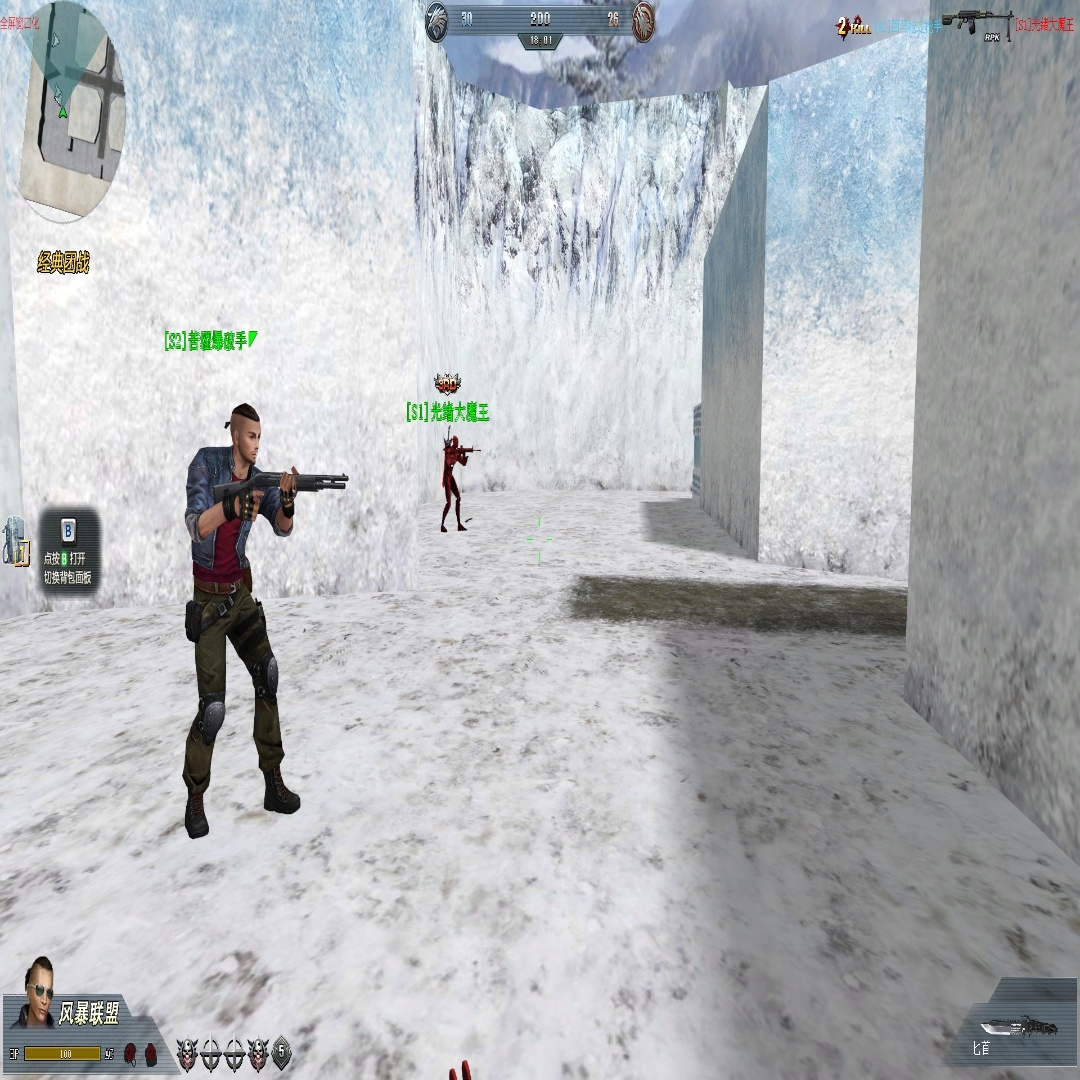head: (230, 406, 261, 468)
t: (182, 403, 302, 840), (438, 429, 473, 532)
